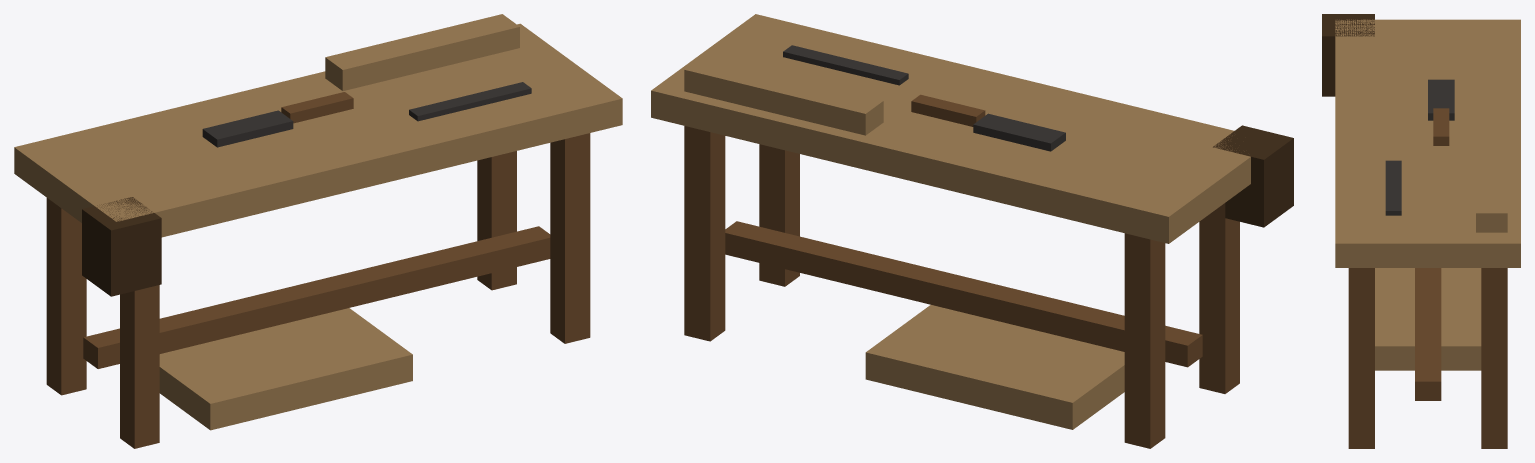
File: mv_workbench.glb
The picture shows the model from 3 angles, left to right: view 1: azimuth 30°, elevation 25°; view 2: azimuth 150°, elevation 25°; view 3: azimuth 270°, elevation 25°; orthographic projection. The views are drawn at different scales.
Visible parts, largest first — view 1: mv_workbench; view 2: mv_workbench; view 3: mv_workbench.
Boxes of the visible parts, bbox=[...] form: mv_workbench: bbox=[14, 14, 622, 448]; mv_workbench: bbox=[651, 14, 1293, 448]; mv_workbench: bbox=[1322, 14, 1520, 448].
Size of the model in its own units: 2.05 by 0.98 by 0.75.
